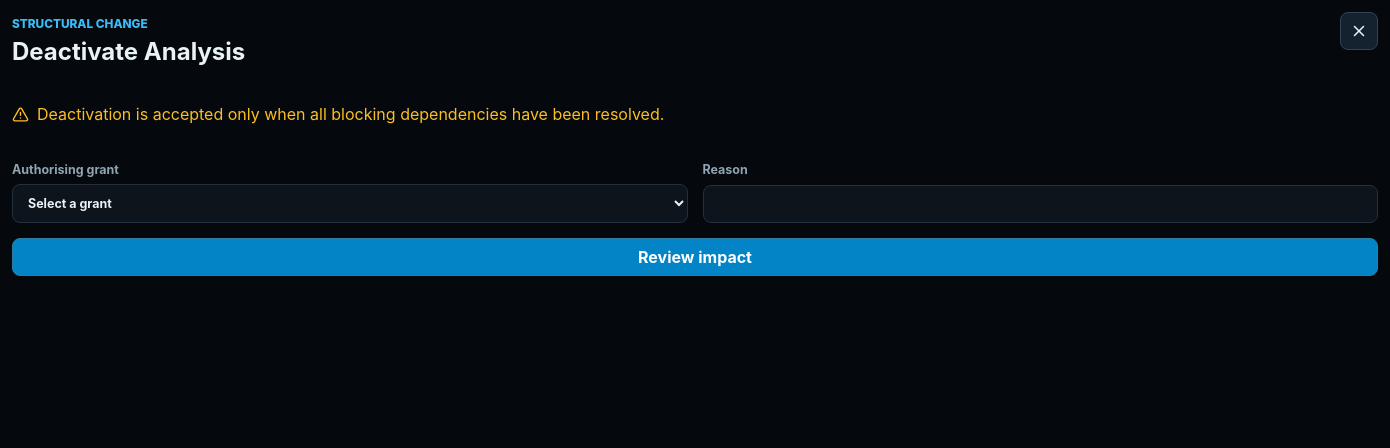
Test: blocks deactivation confirmation when the server reports dependencies
Select "Descendant authority · granted 03/08/2026" in the dropdown labelled "Authorising grant" at (350, 204), box [12, 184, 688, 223]
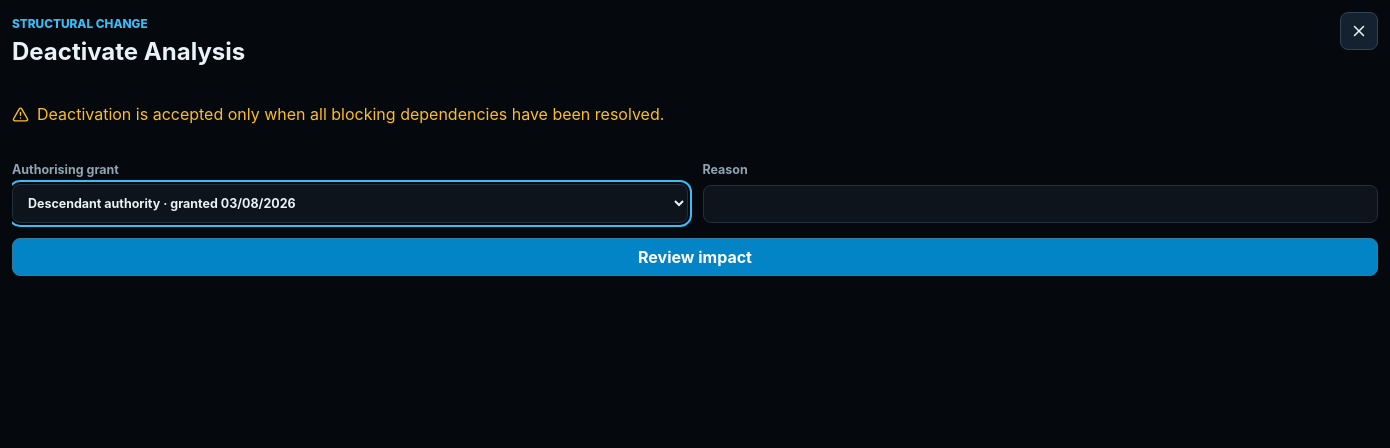
Type "Review deactivation." into the field labelled "Reason" at (1040, 204), box [702, 185, 1378, 223]
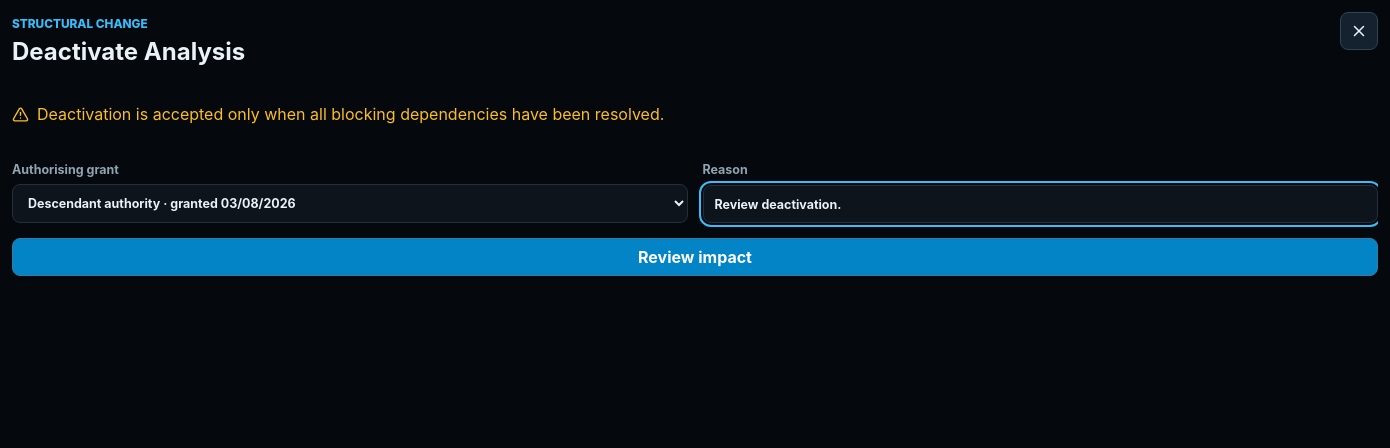
Click the button "Review impact" at (695, 257), box [12, 238, 1378, 276]
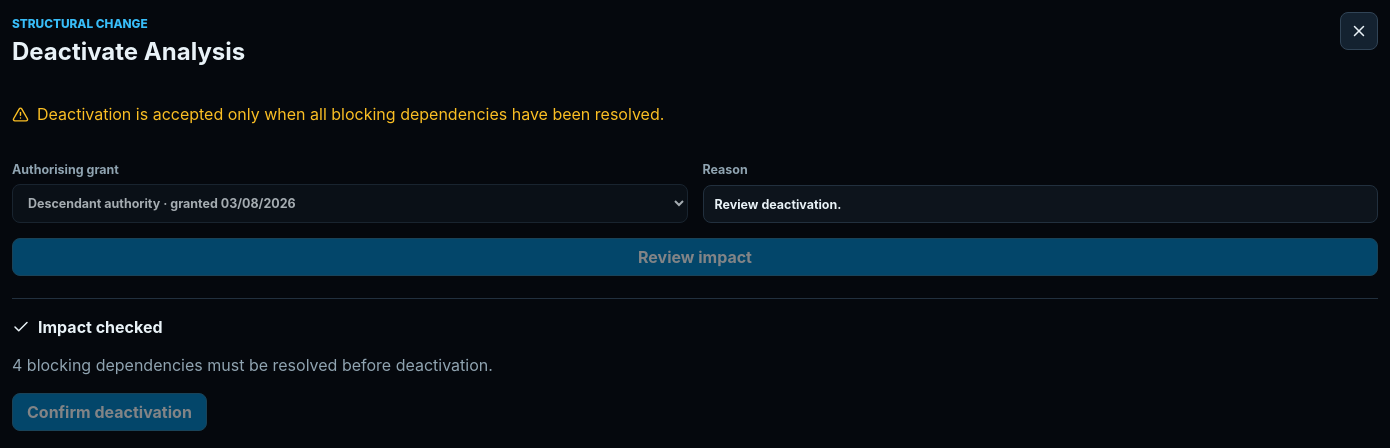
Check: the text "4 blocking dependencies" is shown, box [12, 355, 493, 375]
Check: the button "Confirm deactivation" is disabled, box [12, 393, 207, 431]
